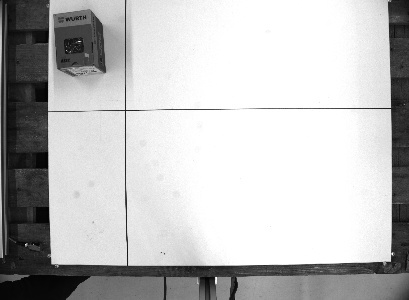b4: (51, 6, 107, 79)
